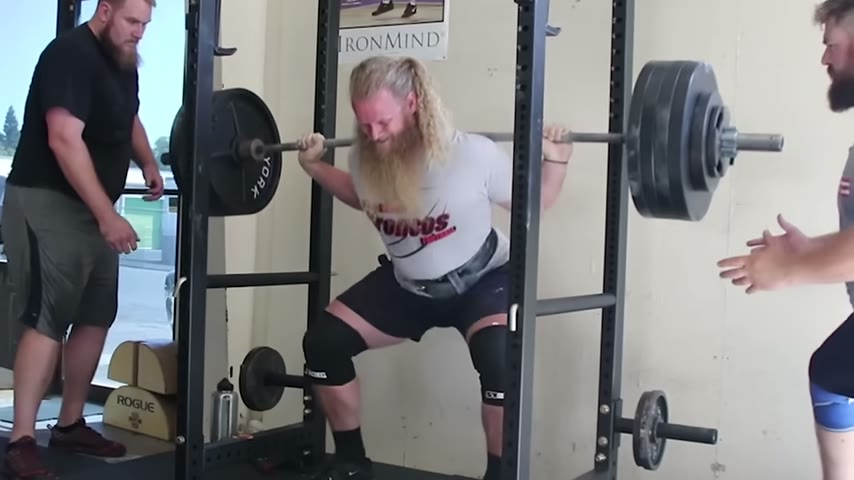barbell_plate_side: (691, 53, 788, 230), (636, 387, 722, 474)
